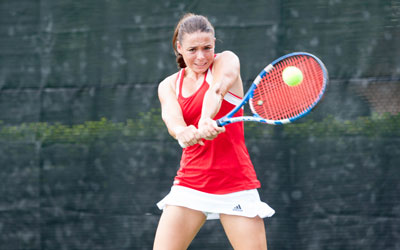tennis ball: (280, 65, 304, 87)
tennis player: (154, 13, 263, 250)
